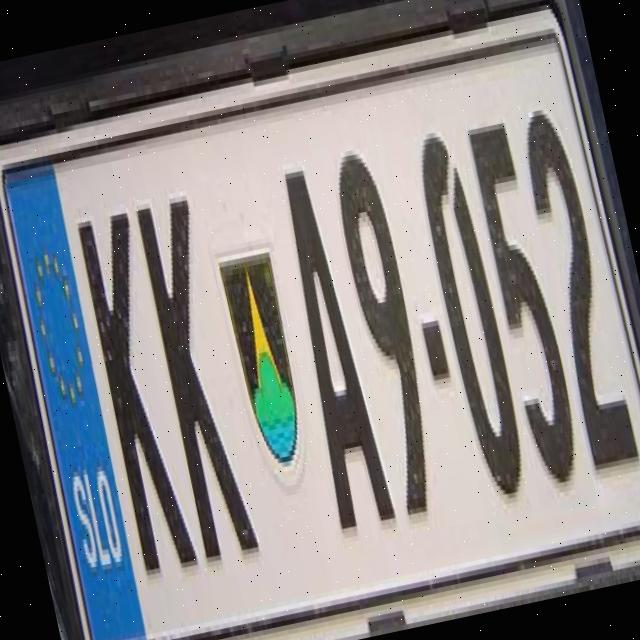EU: (3, 36, 640, 640)
Slovenie: (0, 159, 148, 640)
